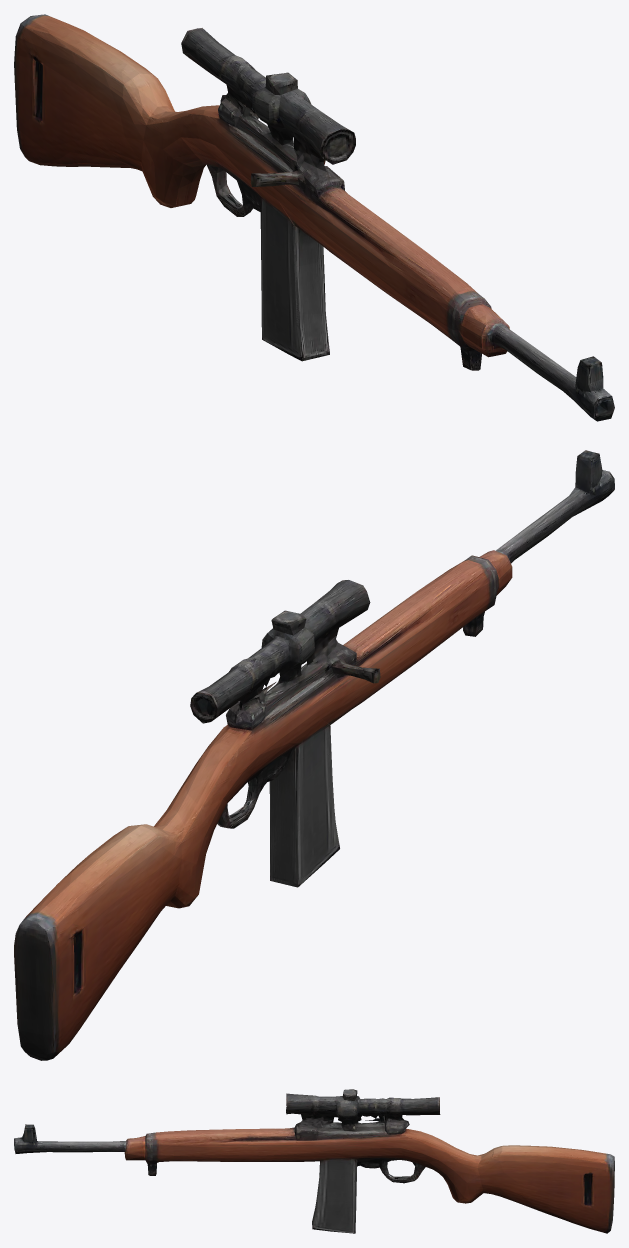
Rendered from m1carbine.glb.
The picture shows the model from 3 angles, top to bottom: view 1: azimuth 30°, elevation 25°; view 2: azimuth 150°, elevation 25°; view 3: azimuth 270°, elevation 25°; orthographic projection. The views are drawn at different scales.
Parts seen in each view (by area): view 1: geometry_0; view 2: geometry_0; view 3: geometry_0.
Boxes of the visible parts, x1,y1,x2,y2 form: geometry_0: [14, 14, 614, 421]; geometry_0: [14, 450, 614, 1060]; geometry_0: [14, 1089, 614, 1233].
Size of the model in its own units: 0.0845 by 0.2555 by 0.9985.
Materials: 1 (1 with a texture image).
